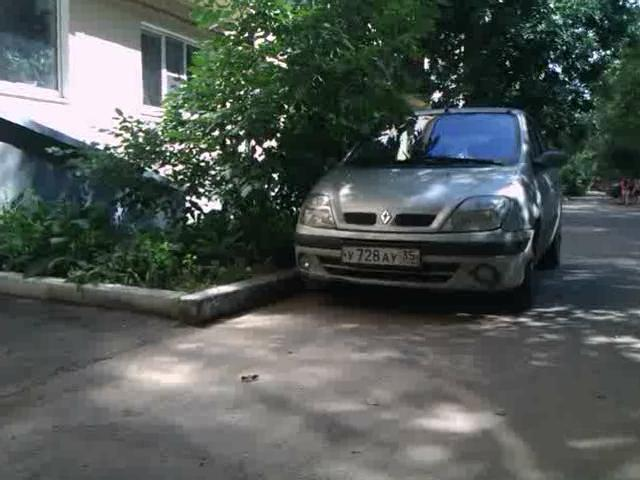car license plate: (340, 244, 423, 273)
